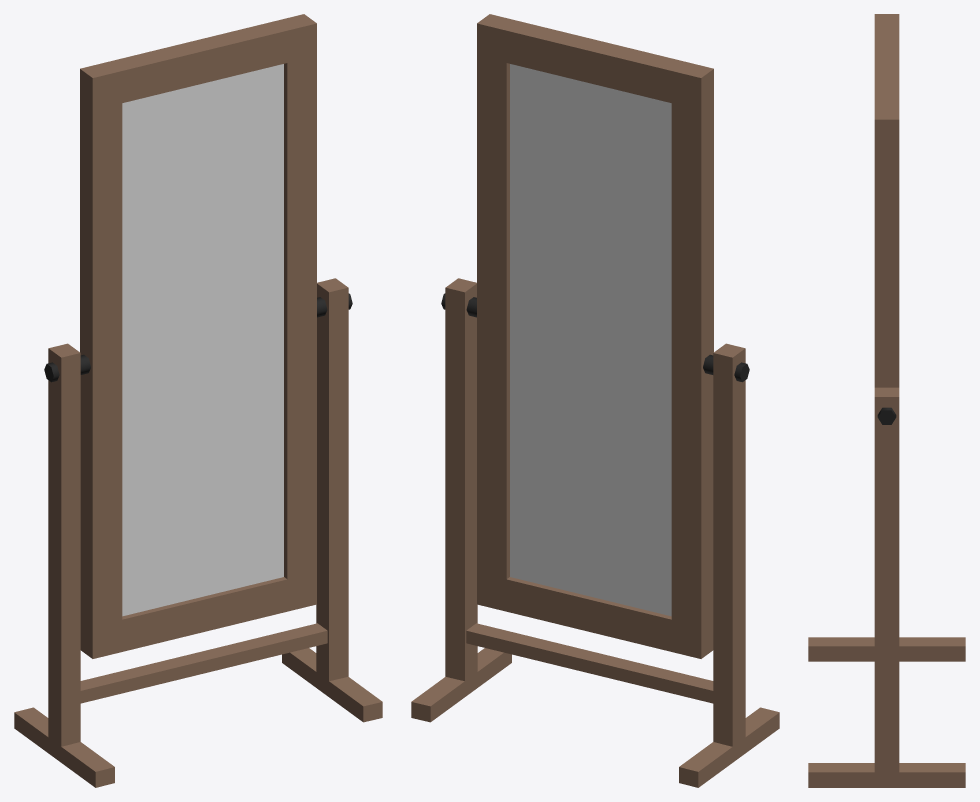
File: BodyMirror_02.fbx
The picture shows the model from 3 angles, left to right: view 1: azimuth 30°, elevation 25°; view 2: azimuth 150°, elevation 25°; view 3: azimuth 270°, elevation 25°; orthographic projection. The views are drawn at different scales.
Visible parts, largest first — view 1: BodyMirror_02_Mirror, BodyMirror_02; view 2: BodyMirror_02_Mirror, BodyMirror_02; view 3: BodyMirror_02, BodyMirror_02_Mirror.
Boxes of the visible parts, x1,y1,x2,y2 form: BodyMirror_02_Mirror: [80, 14, 316, 658]; BodyMirror_02: [14, 278, 382, 787]; BodyMirror_02_Mirror: [477, 14, 713, 658]; BodyMirror_02: [411, 278, 779, 787]; BodyMirror_02: [808, 387, 965, 787]; BodyMirror_02_Mirror: [874, 14, 899, 387].
Bounding box in the file's own units: 0.8288 × 1.79 × 0.391.
